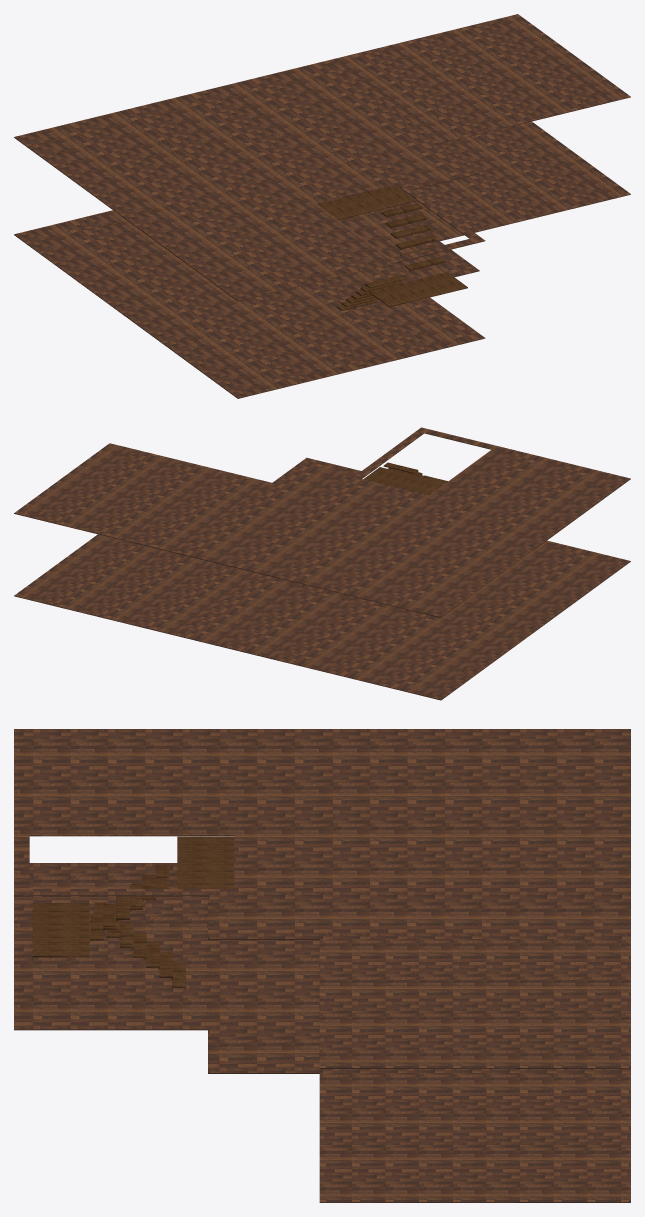
The model's file is casa_piso.fbx.
3 renders of one model, top to bottom at view 1: azimuth 30°, elevation 25°; view 2: azimuth 150°, elevation 25°; view 3: azimuth 270°, elevation 25°, orthographic. The views are drawn at different scales.
Parts seen in each view (by area): view 1: P2_Piso, PB_piso, wood; view 2: P2_Piso, PB_piso, wood; view 3: P2_Piso, PB_piso, wood.
Part boxes in pixels (box(x1,y1,x2,y2)): P2_Piso: box(14, 14, 630, 301); PB_piso: box(14, 121, 630, 398); wood: box(317, 185, 467, 310); P2_Piso: box(14, 427, 630, 617); PB_piso: box(14, 534, 630, 700); wood: box(363, 462, 447, 495); P2_Piso: box(14, 729, 630, 1068); PB_piso: box(14, 863, 630, 1202); wood: box(32, 836, 234, 989).
Size of the model in its own units: 1642 by 305 by 1264.
Materials: 3 (3 with a texture image).
